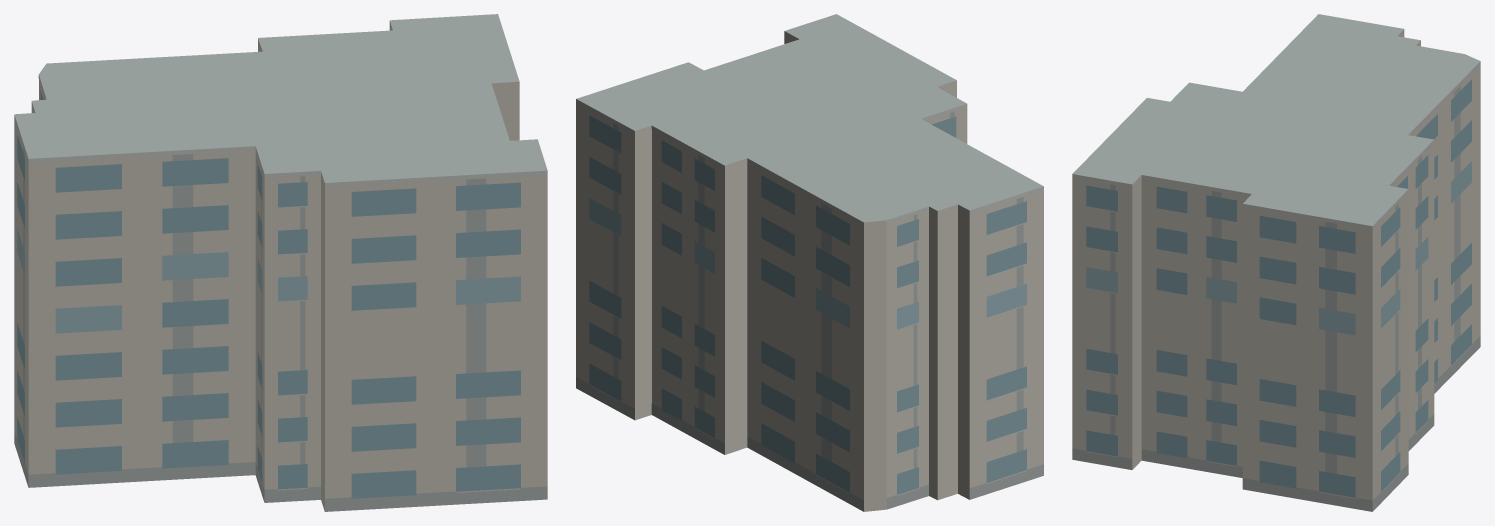
File: survey-upis-32806048.glb
3 renders of one model, left to right at view 1: azimuth 30°, elevation 25°; view 2: azimuth 150°, elevation 25°; view 3: azimuth 270°, elevation 25°, orthographic. The views are drawn at different scales.
Visible parts, largest first — view 1: survey-upis-32806048.tmp; view 2: survey-upis-32806048.tmp; view 3: survey-upis-32806048.tmp.
Boxes of the visible parts, box(x1,y1,x2,y2) form: survey-upis-32806048.tmp: box(14, 14, 547, 511); survey-upis-32806048.tmp: box(576, 14, 1043, 511); survey-upis-32806048.tmp: box(1072, 14, 1480, 511).
Size of the model in its own units: 29.51 by 18.52 by 24.
